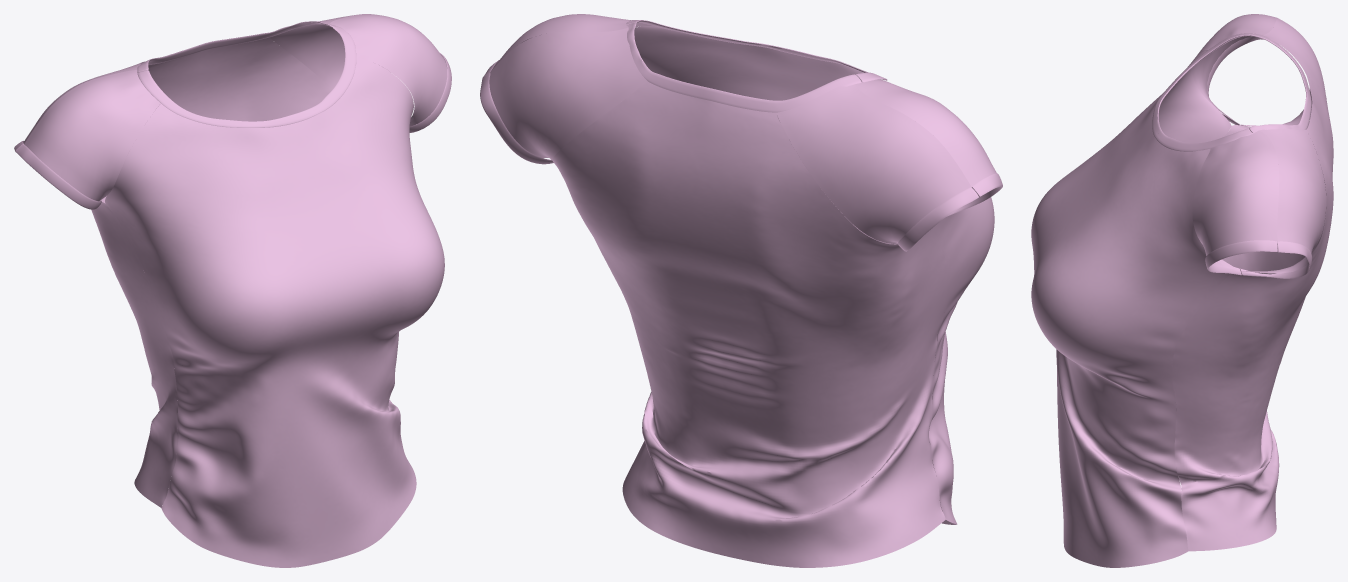
The model's file is girls-t-sheen.glb.
3 renders of one model, left to right at view 1: azimuth 30°, elevation 25°; view 2: azimuth 150°, elevation 25°; view 3: azimuth 270°, elevation 25°, orthographic. The views are drawn at different scales.
Parts seen in each view (by area): view 1: uploads-files-2862778-TshirtsOB; view 2: uploads-files-2862778-TshirtsOB; view 3: uploads-files-2862778-TshirtsOB.
Boxes of the visible parts, box(x1,y1,x2,y2) form: uploads-files-2862778-TshirtsOB: box(14, 14, 451, 567); uploads-files-2862778-TshirtsOB: box(480, 14, 1002, 567); uploads-files-2862778-TshirtsOB: box(1031, 14, 1333, 567).
Bounding box in the file's own units: 44.8 × 45.28 × 27.25.
